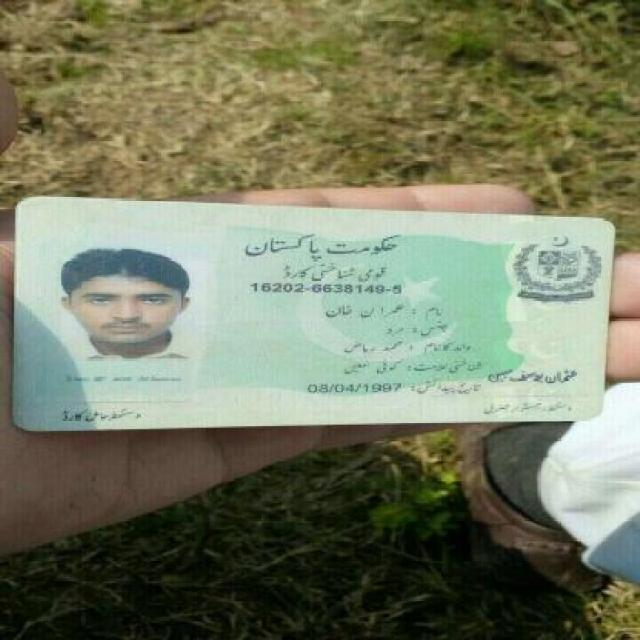Front: (3, 191, 611, 432)
